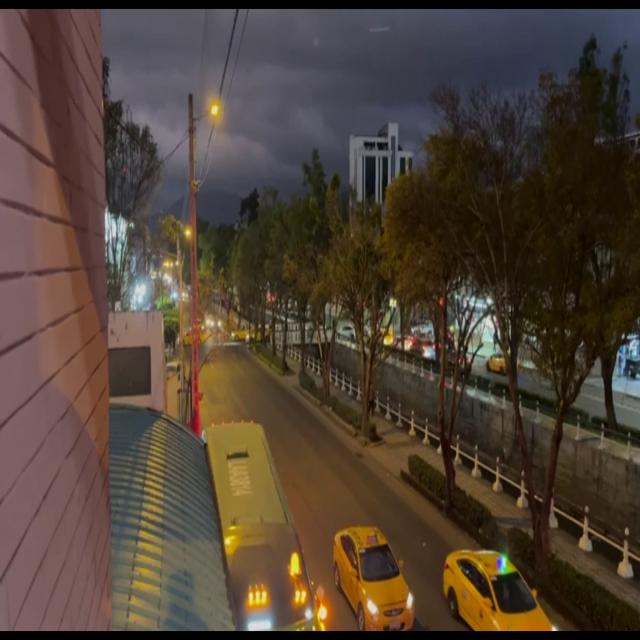CMT: (194, 419, 303, 636)
SED: (448, 552, 552, 637), (334, 530, 410, 635)
